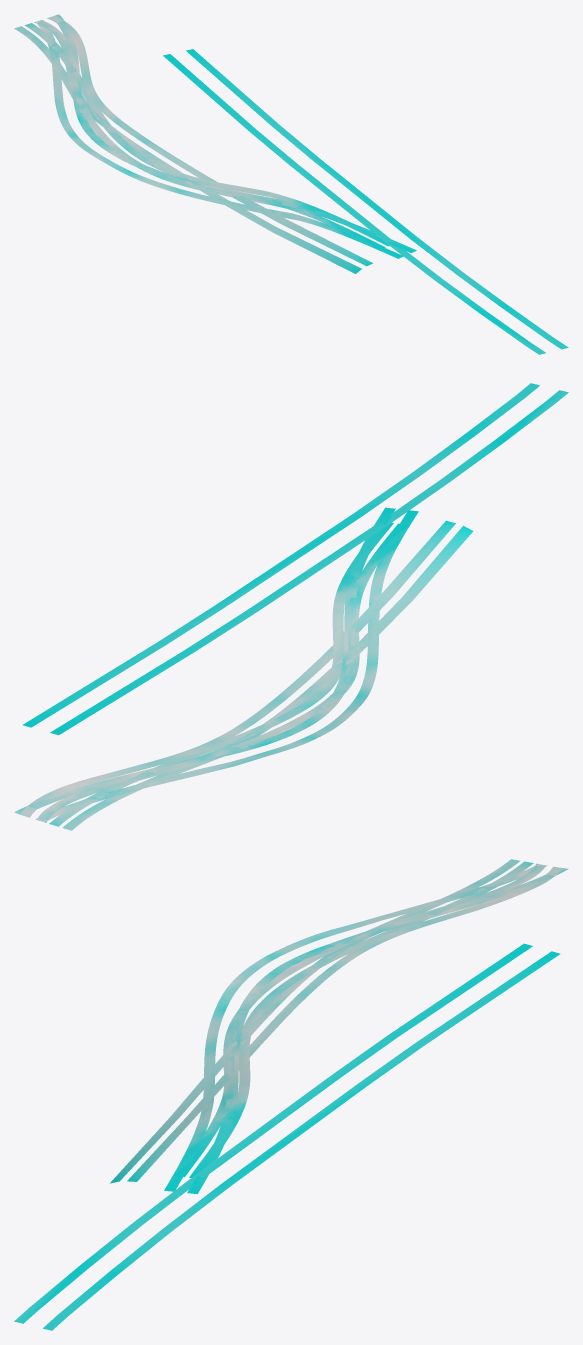
3 renders of one model, top to bottom at view 1: azimuth 30°, elevation 25°; view 2: azimuth 150°, elevation 25°; view 3: azimuth 330°, elevation 25°, orthographic. The views are drawn at different scales.
Visible parts, largest first — view 1: SpaceCenter_Long3_GenerateRoad_Sand_TireTracks_Narrow_Mesh_x; view 2: SpaceCenter_Long3_GenerateRoad_Sand_TireTracks_Narrow_Mesh_x; view 3: SpaceCenter_Long3_GenerateRoad_Sand_TireTracks_Narrow_Mesh_x.
Part boxes in pixels (x1,y1,x2,y2): SpaceCenter_Long3_GenerateRoad_Sand_TireTracks_Narrow_Mesh_x: [14, 14, 568, 354]; SpaceCenter_Long3_GenerateRoad_Sand_TireTracks_Narrow_Mesh_x: [14, 383, 568, 830]; SpaceCenter_Long3_GenerateRoad_Sand_TireTracks_Narrow_Mesh_x: [14, 859, 568, 1330].
Size of the model in its own units: 2304 by 520 by 41.97.
